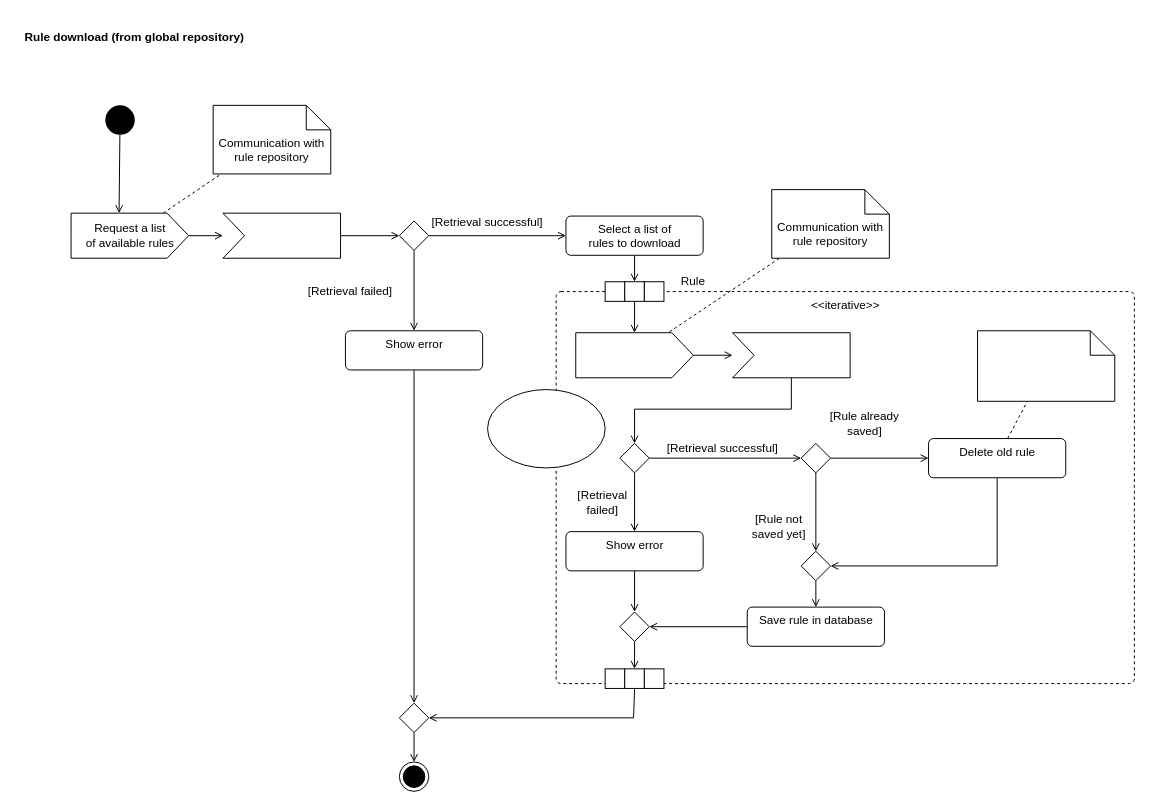
This 1152x809 diagram has some shape labels left out. The shapes that lost their labels are listed below. From the top down, each one's centre as x and y in pixels, then its label:
At (281,235): "Receive list with descriptions".
At (634,355): "Request selected rule".
At (791,355): "Receive rules".
At (1046,365): "Rule deletion described in additonal diagram".
